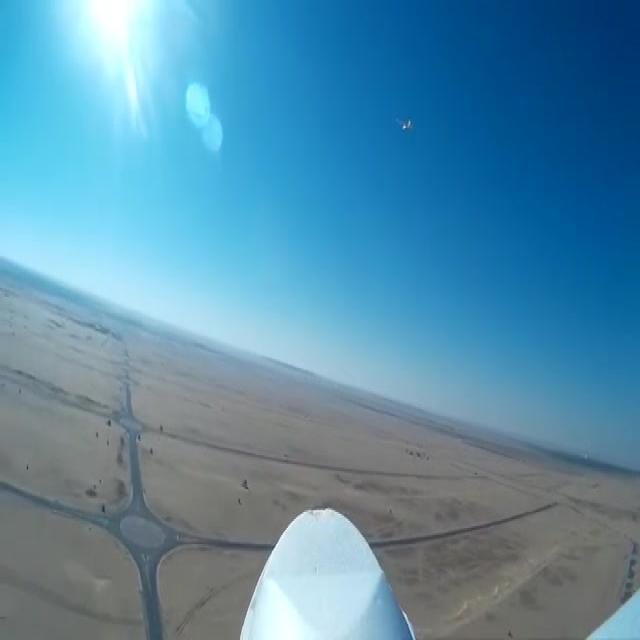iha: (393, 52, 417, 69)
